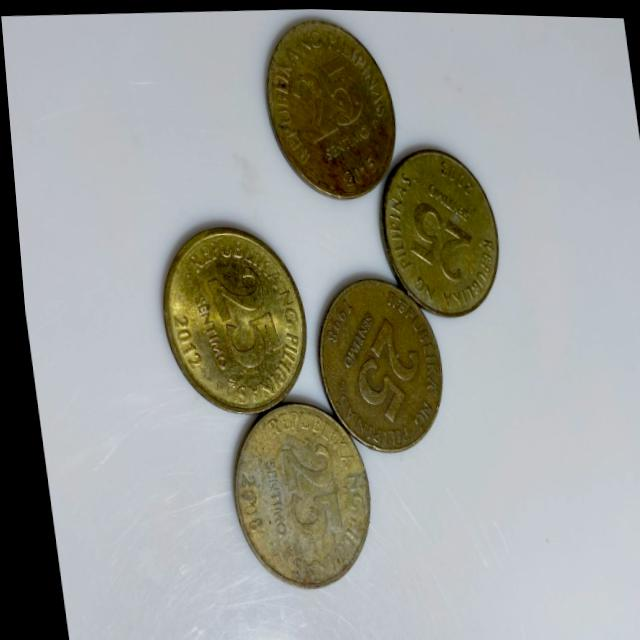25Cent_Old_Front: (339, 317, 420, 424), (285, 49, 367, 153), (204, 262, 280, 367), (272, 439, 342, 542), (396, 200, 471, 277)
